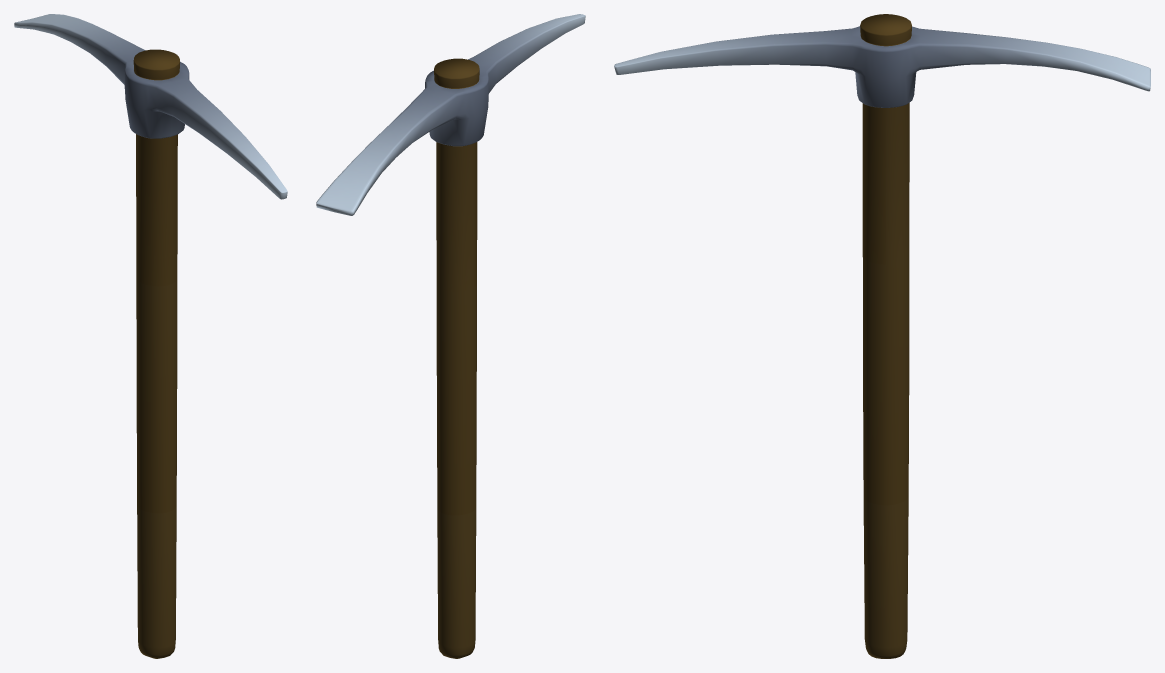
The model's file is 1pickaxe.fbx.
3 views of the same model, side by side, from view 1: azimuth 30°, elevation 25°; view 2: azimuth 150°, elevation 25°; view 3: azimuth 270°, elevation 25° (orthographic). The views are drawn at different scales.
Parts seen in each view (by area): view 1: Pickaxe; view 2: Pickaxe; view 3: Pickaxe.
Part boxes in pixels (bbox=[...]): Pickaxe: bbox=[14, 14, 287, 658]; Pickaxe: bbox=[316, 14, 585, 658]; Pickaxe: bbox=[614, 14, 1150, 658].
Bounding box in the file's own units: 0.2333 × 2.37 × 1.83.
